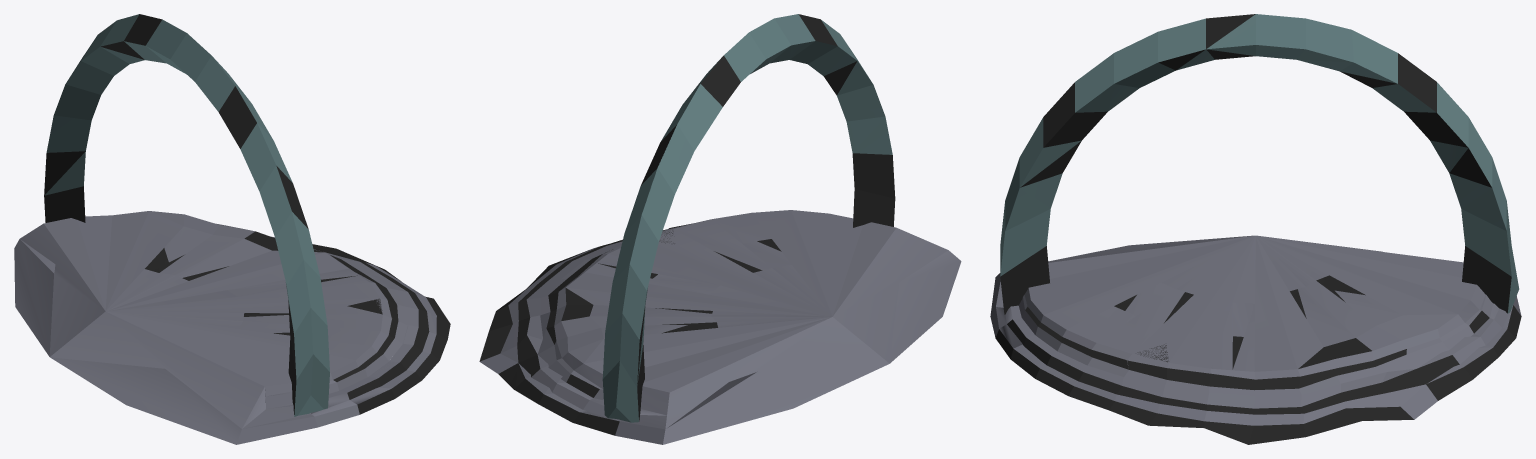
File: Portal.fbx
3 views of the same model, side by side, from view 1: azimuth 30°, elevation 25°; view 2: azimuth 150°, elevation 25°; view 3: azimuth 270°, elevation 25° (orthographic). The views are drawn at different scales.
Parts seen in each view (by area): view 1: Circle, Portal; view 2: Circle, Portal; view 3: Circle, Portal.
Part boxes in pixels (box(x1,y1,x2,y2)): Circle: box(14, 211, 450, 444); Portal: box(44, 14, 329, 416); Circle: box(479, 210, 961, 444); Portal: box(602, 14, 895, 422); Circle: box(990, 235, 1521, 444); Portal: box(1000, 14, 1519, 314).
Bounding box in the file's own units: 1207 × 996 × 1504.
